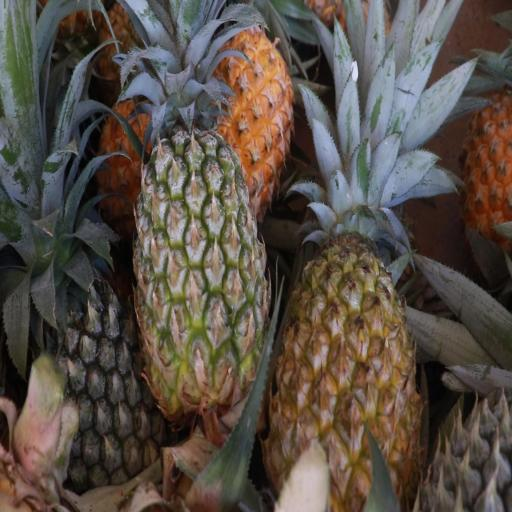------------------------------: (136, 118, 266, 410)
Pineapple - v8 v1: (266, 178, 416, 510), (139, 16, 285, 155)
